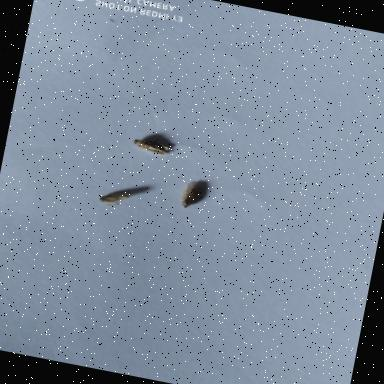pbw: (128, 135, 172, 158), (176, 178, 204, 212), (96, 187, 134, 211)
